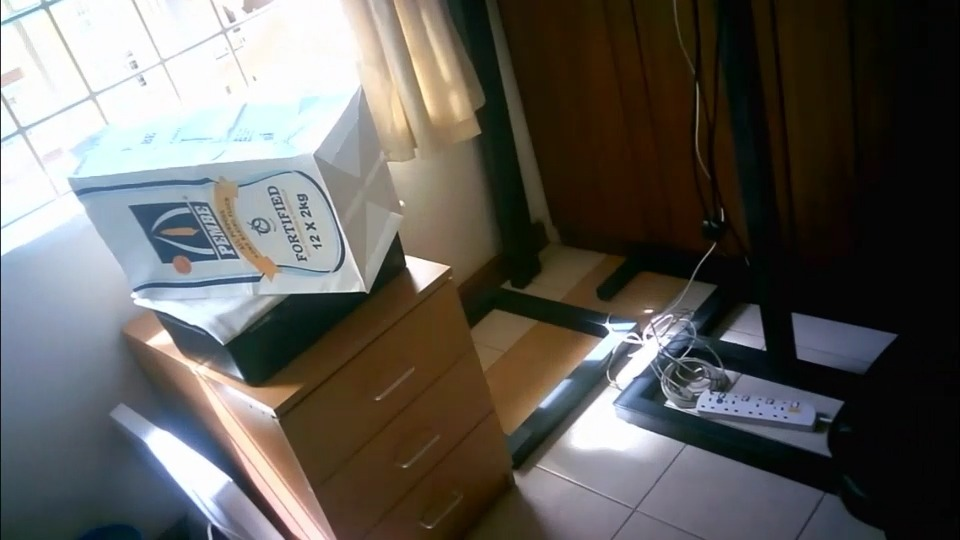wheat_flour_blue_label: (61, 83, 406, 292)
